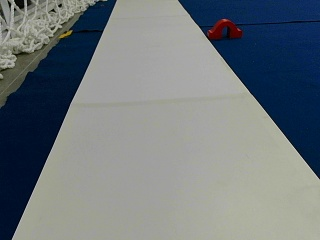bridge: (208, 19, 242, 37)
